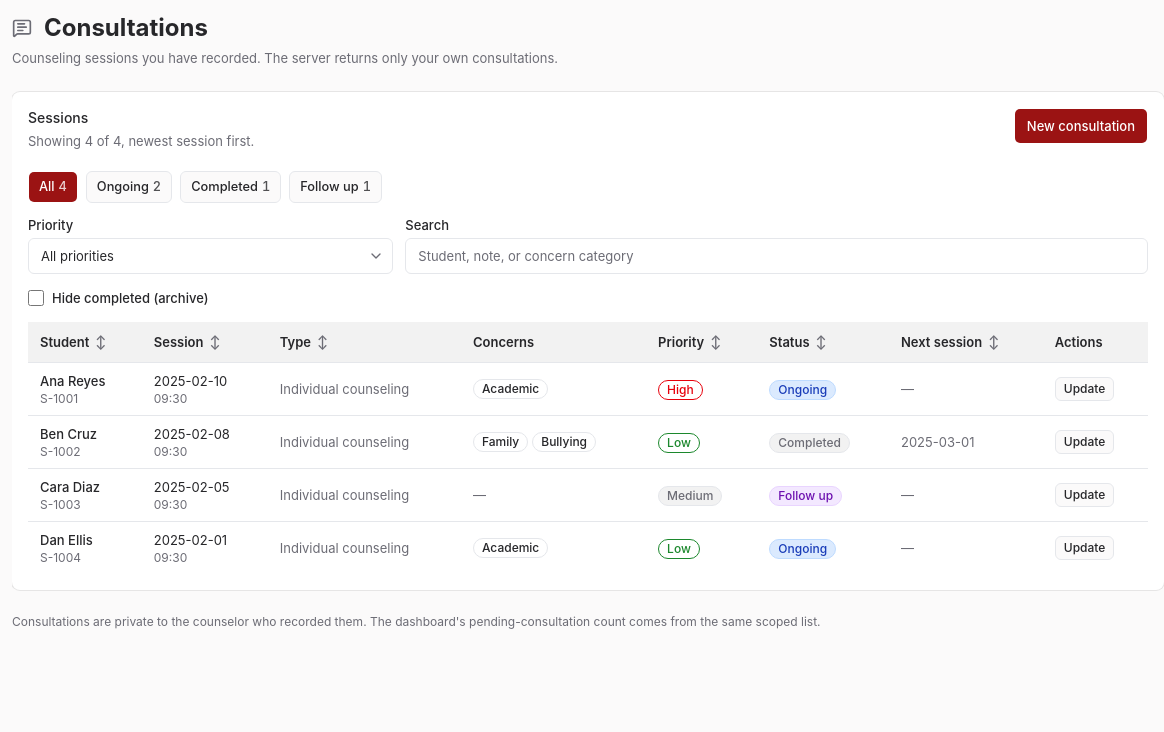
Test: ConsultationsPage › filters by priority
Expected: the text "Ana Reyes" is shown, x1=40 y1=373 x2=105 y2=389
Press ArrowDown in the dropdown named "Priority", box x1=28 y1=238 x2=393 y2=274
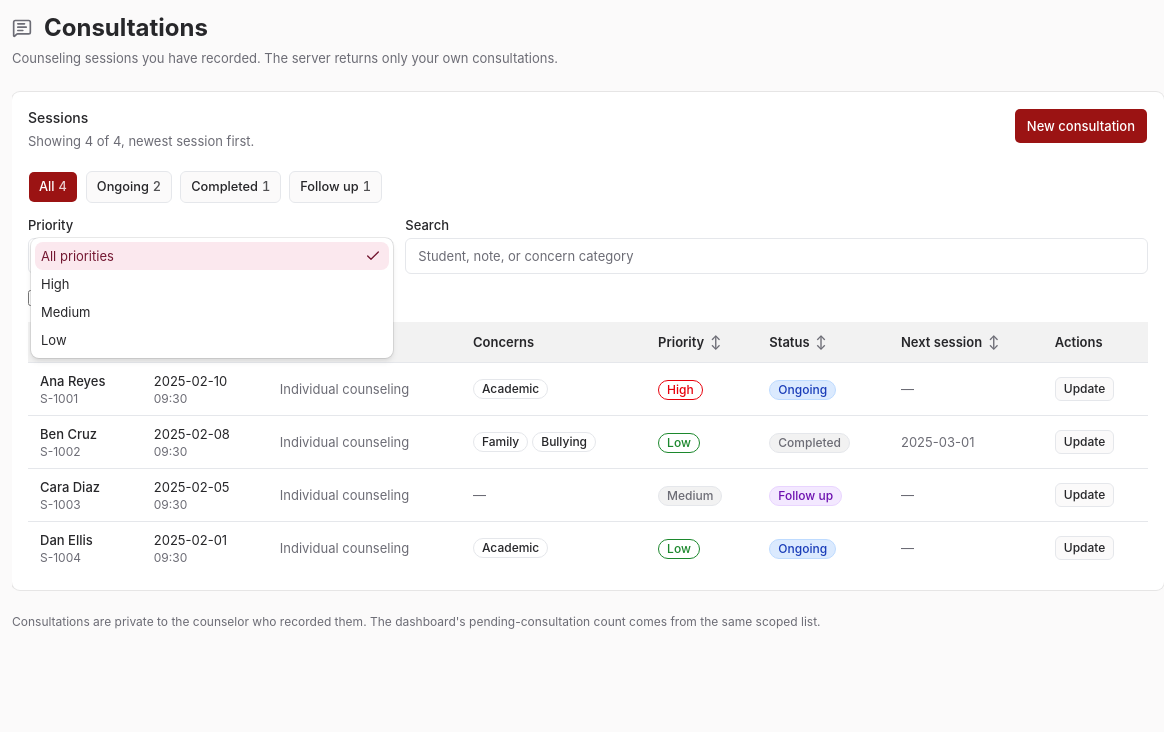
Click the option "Low" at (54, 340), box x1=41 y1=332 x2=67 y2=348
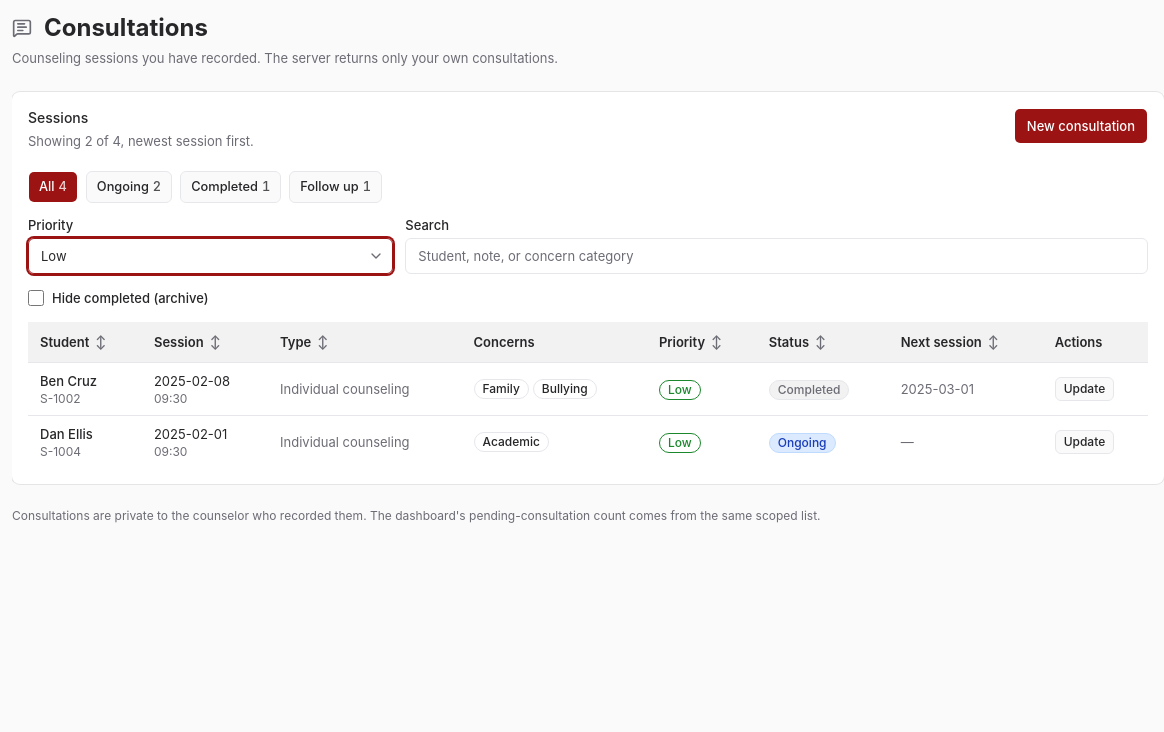
Expected: the text "Dan Ellis" is shown, x1=40 y1=426 x2=93 y2=442
Expected: the text "Ana Reyes" is gone
